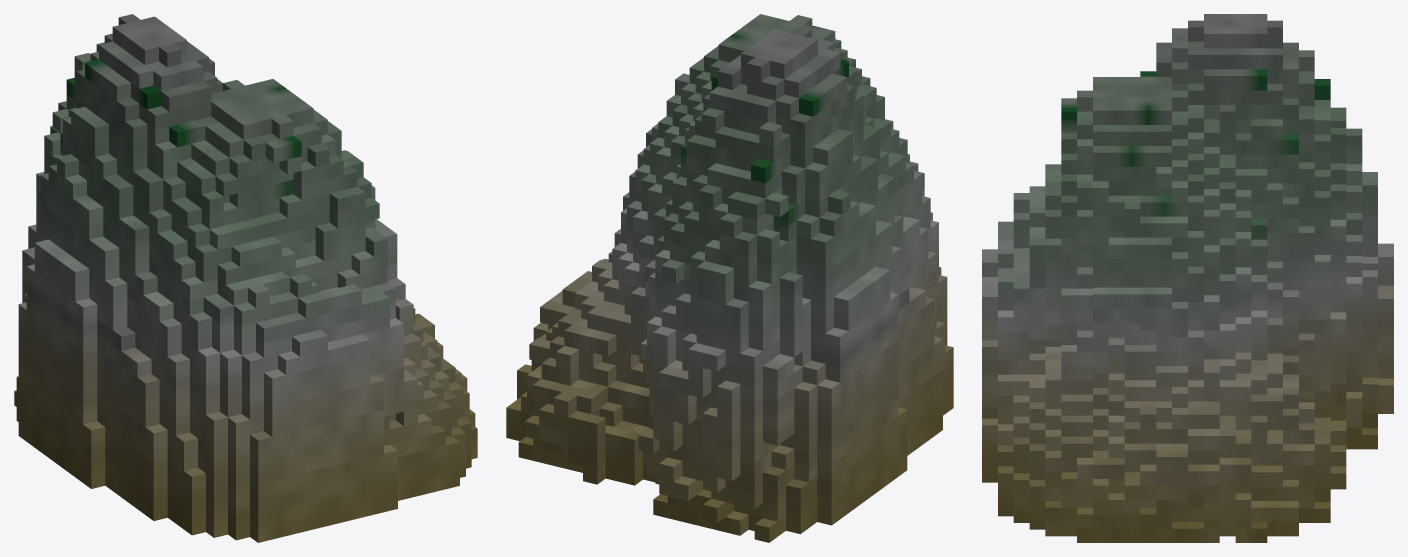
Rendered from Pierre type 4.fbx.
3 views of the same model, side by side, from view 1: azimuth 30°, elevation 25°; view 2: azimuth 150°, elevation 25°; view 3: azimuth 270°, elevation 25° (orthographic). The views are drawn at different scales.
Visible parts, largest first — view 1: Matrix_1; view 2: Matrix_1; view 3: Matrix_1.
Part boxes in pixels (x1=…): Matrix_1: x1=14, y1=14, x2=477, y2=542; Matrix_1: x1=506, y1=14, x2=953, y2=542; Matrix_1: x1=982, y1=14, x2=1393, y2=542.
Size of the model in its own units: 24 by 28 by 26.
